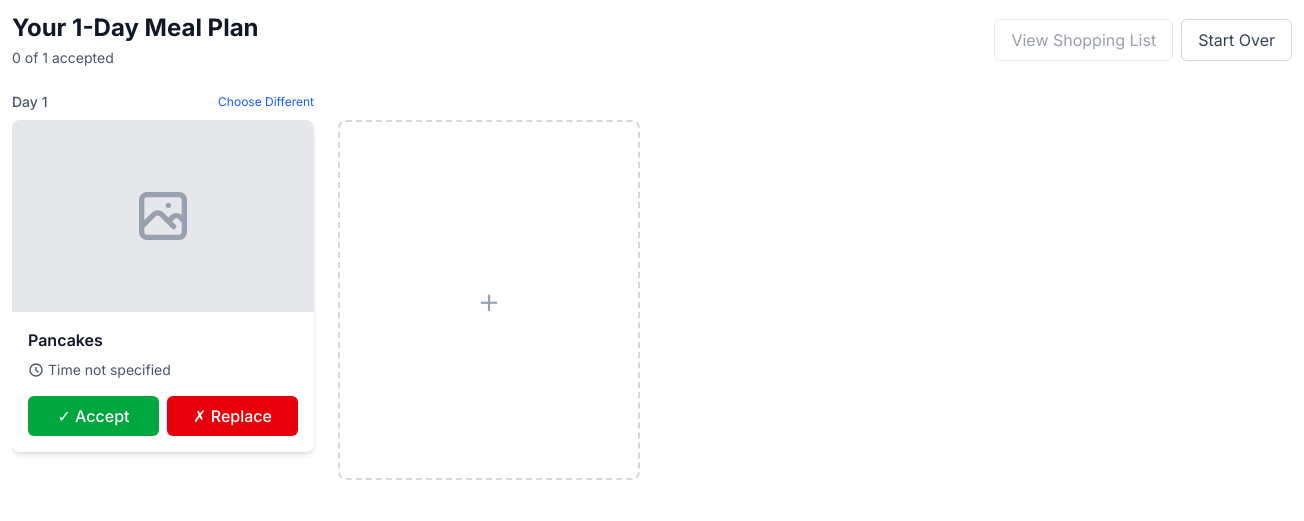
MealPlanView acceptance state › a failed recordFeedback reverts the card to proposed state and shows an error
Click the button "✓ Accept". click: (94, 416)
box: [28,396,159,436]
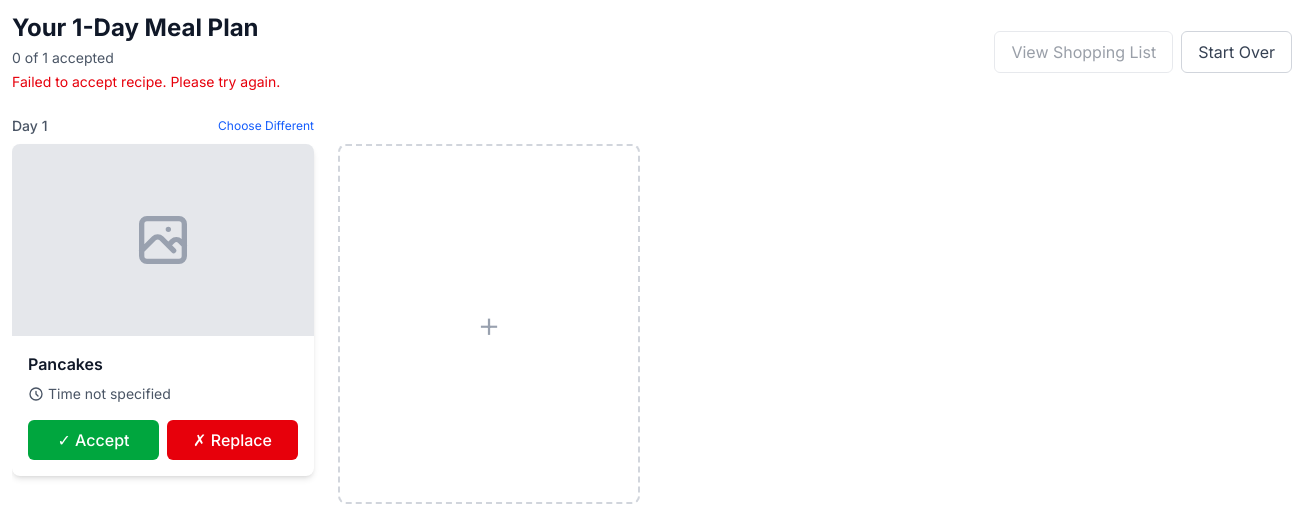
expect the button "✓ Accept" is shown: met, box [28,420,159,460]
expect the text "Failed to accept recipe. Please try again." is shown: met, box [12,72,280,92]
